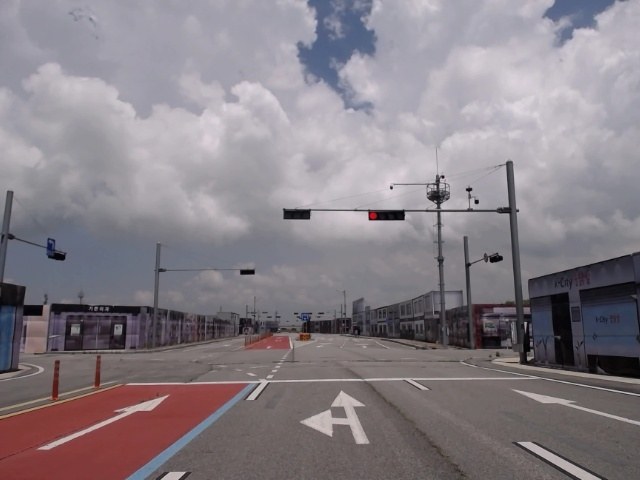red_4: (368, 211, 404, 220)
